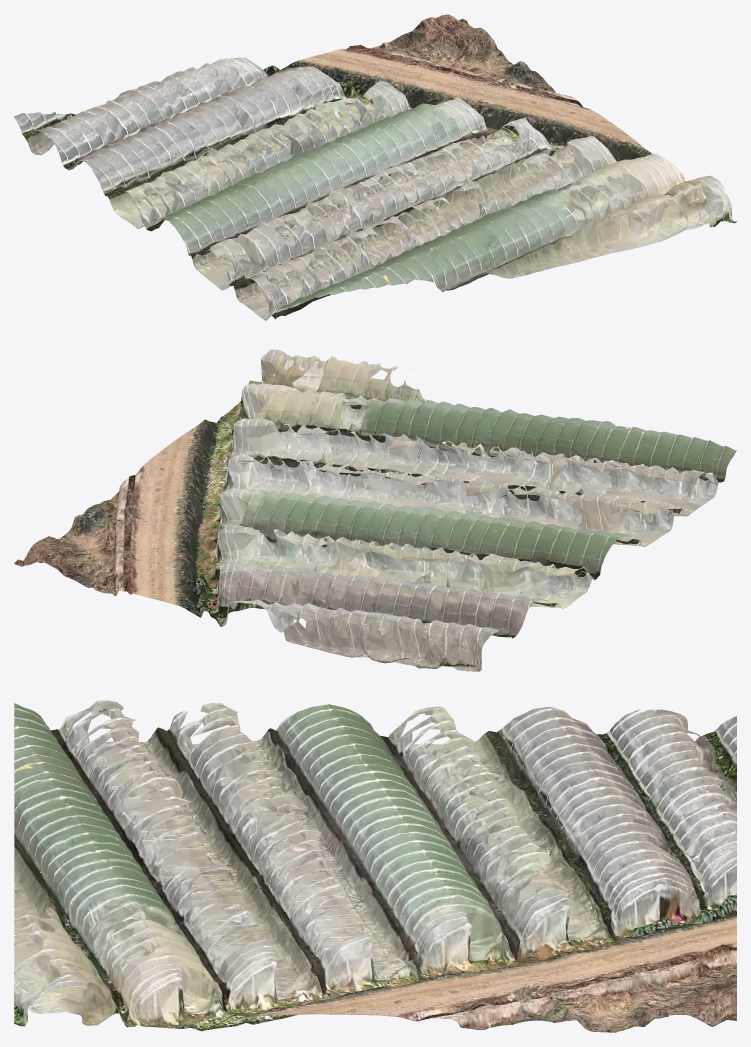
The model's file is BlockBB_L20_245.glb.
3 views of the same model, one above another, from view 1: azimuth 30°, elevation 25°; view 2: azimuth 150°, elevation 25°; view 3: azimuth 270°, elevation 25° (orthographic). The views are drawn at different scales.
Parts seen in each view (by area): view 1: rtc; view 2: rtc; view 3: rtc.
Part boxes in pixels (box(x1,y1,x2,y2)): rtc: box(14, 14, 736, 320); rtc: box(14, 349, 736, 671); rtc: box(14, 700, 736, 1032).
Bounding box in the file's own units: 33.73 × 3.24 × 35.69.
4 materials, 4 textured.
